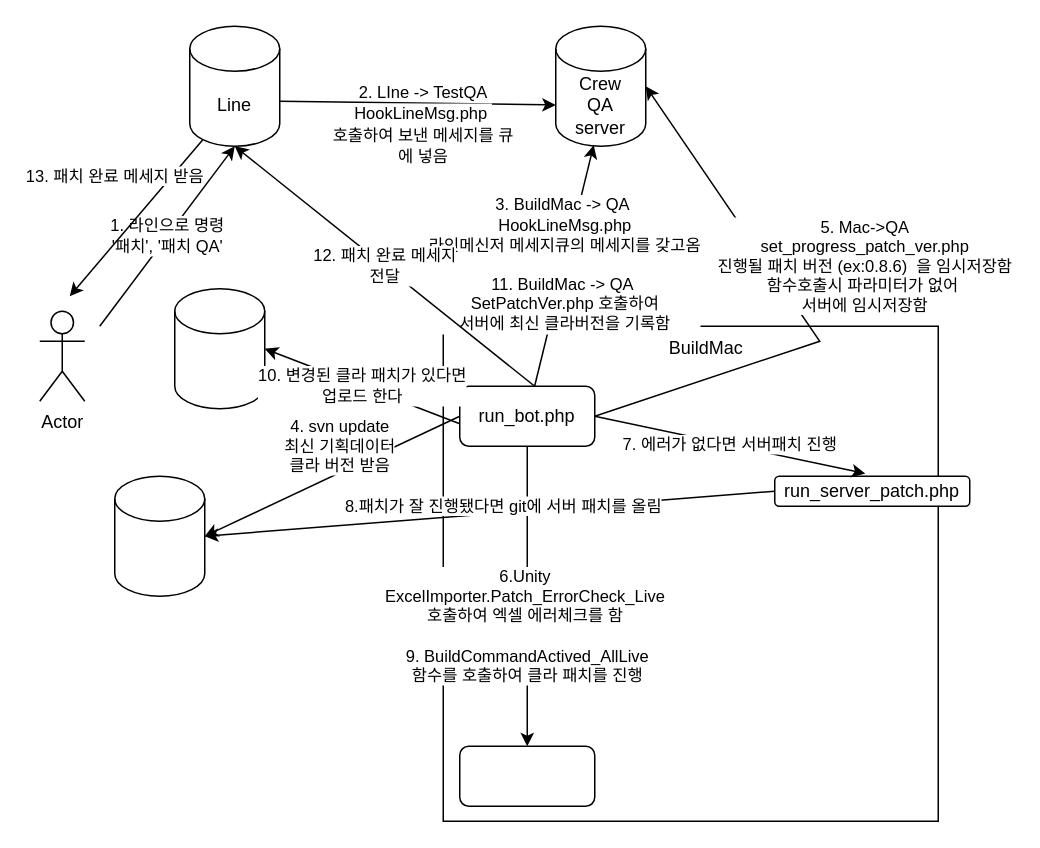
This 1040x848 diagram has some shape labels left out. Each missing label, with the centre of its shape:
cdn: the point at 219,348
svn git: the point at 159,535
unity: the point at 526,775
